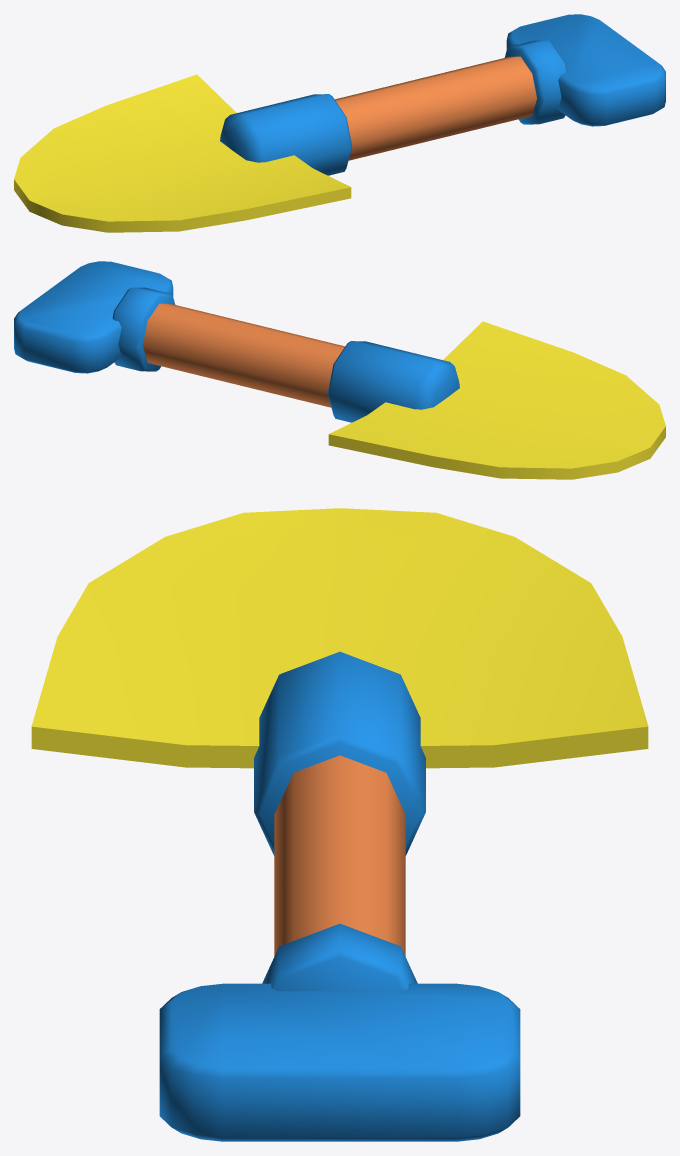
Rendered from cai xeng.fbx.
3 renders of one model, top to bottom at view 1: azimuth 30°, elevation 25°; view 2: azimuth 150°, elevation 25°; view 3: azimuth 270°, elevation 25°, orthographic. The views are drawn at different scales.
Visible parts, largest first — view 1: Cylinder028; view 2: Cylinder028; view 3: Cylinder028.
Part boxes in pixels (x1=…): Cylinder028: x1=14, y1=14, x2=665, y2=232; Cylinder028: x1=14, y1=261, x2=665, y2=479; Cylinder028: x1=31, y1=508, x2=648, y2=1141.
Bounding box in the file's own units: 507 × 62.74 × 225.
